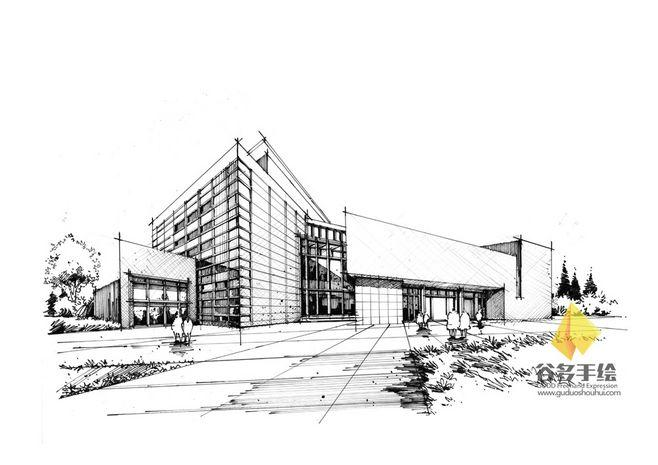buildings: (135, 139, 346, 352)
